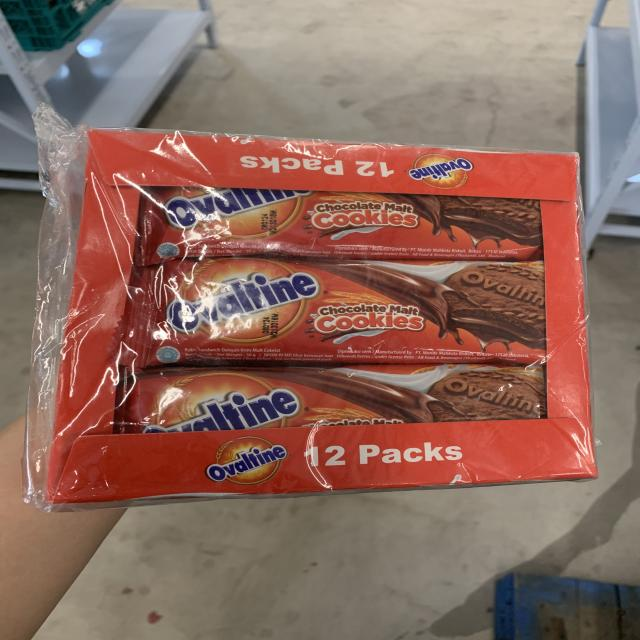object_name: (51, 127, 591, 482)
